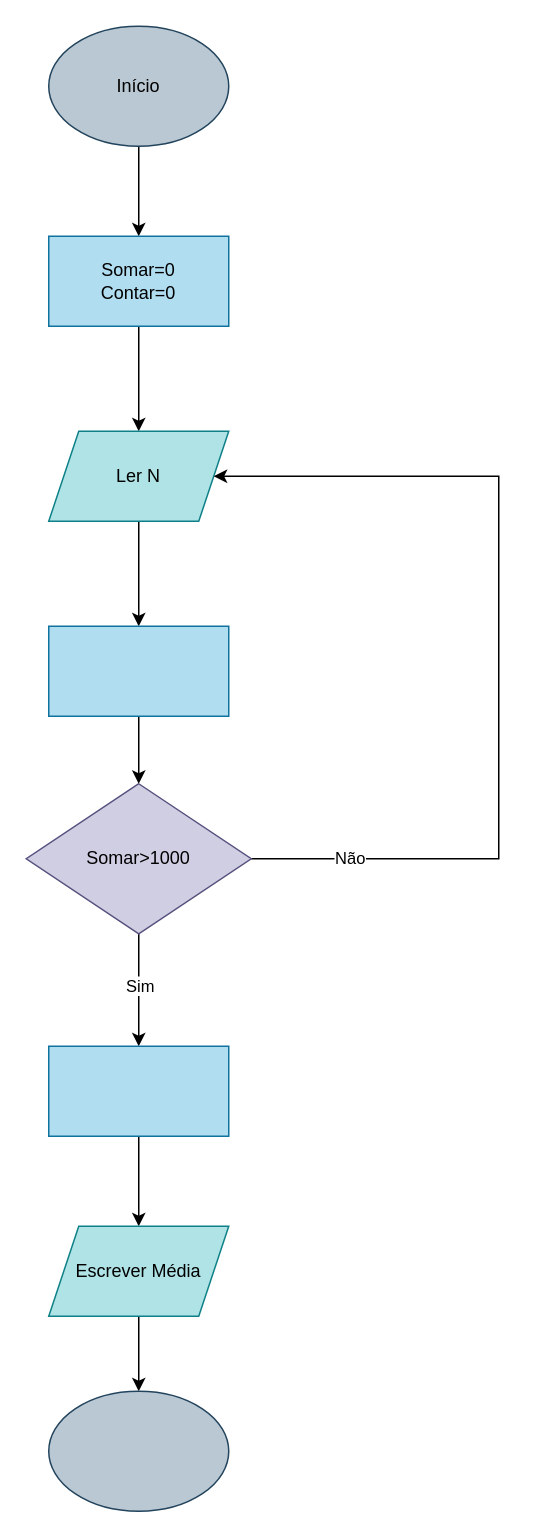
This 537x1538 diagram has some shape labels left out. The shapes that lost their labels are listed below. From the top down, each one's box as (x1, y1, x2, y2) in pixels, then its label:
(47, 625, 229, 716): Somar=Somar+N Contar=Contar+1
(47, 1045, 229, 1136): Média=Somar/Contar
(47, 1390, 229, 1511): Fim
